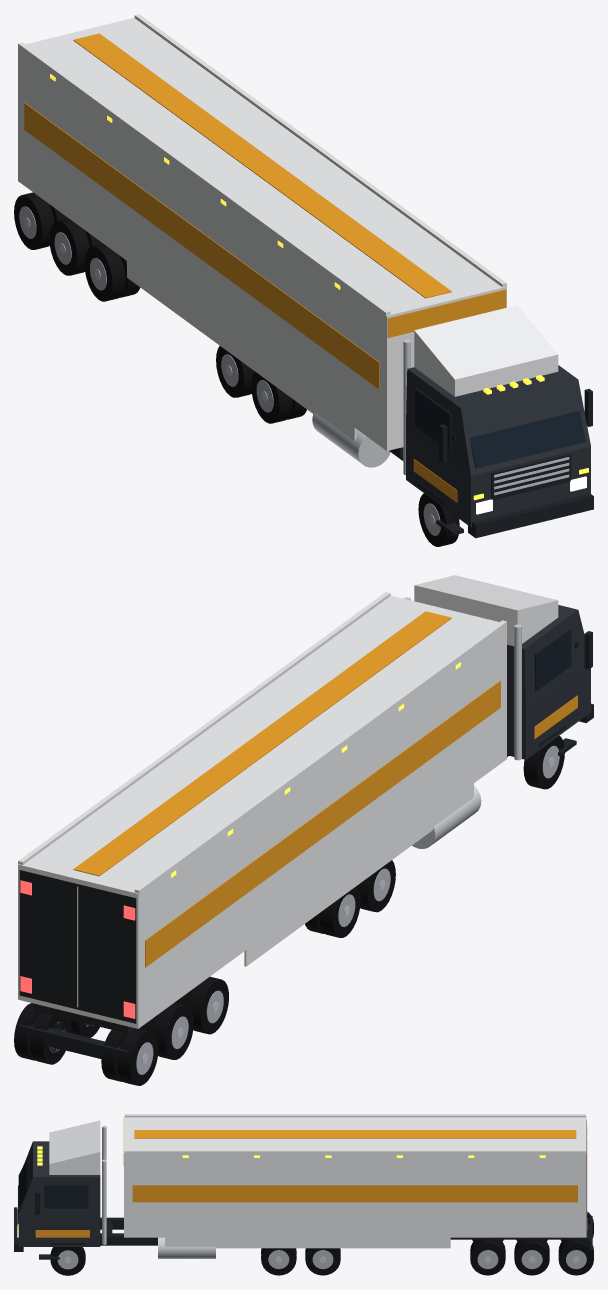
File: truck-at_risk.glb
3 renders of one model, top to bottom at view 1: azimuth 30°, elevation 25°; view 2: azimuth 150°, elevation 25°; view 3: azimuth 270°, elevation 25°, orthographic. The views are drawn at different scales.
Visible parts, largest first — view 1: tractocamion; view 2: tractocamion; view 3: tractocamion.
Boxes of the visible parts, x1,y1,x2,y2 form: tractocamion: (14,14,593,546); tractocamion: (14,575,593,1085); tractocamion: (14,1114,593,1275).
Bounding box in the file's own units: 3.2 × 4.06 × 17.06.
